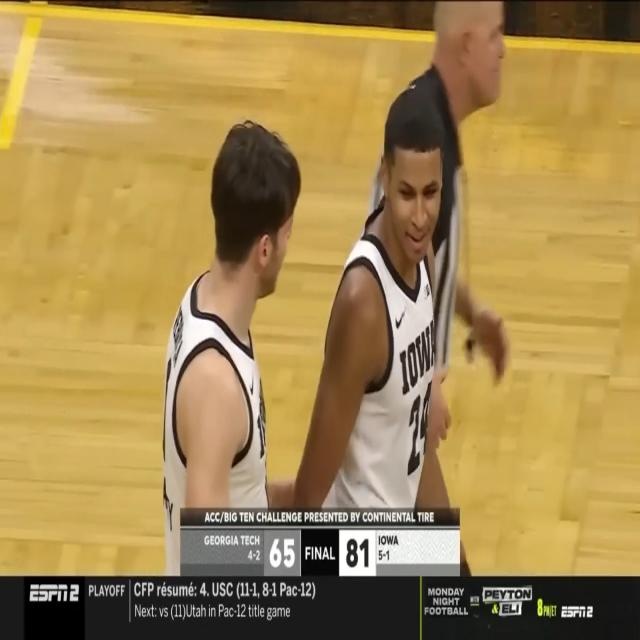Period: (304, 545, 337, 562)
Player: (293, 85, 470, 571), (162, 118, 301, 576)
Ref: (373, 0, 507, 441)
Team Name: (204, 535, 260, 546), (378, 532, 400, 548)
Team Points: (344, 536, 372, 569), (269, 537, 296, 570)
